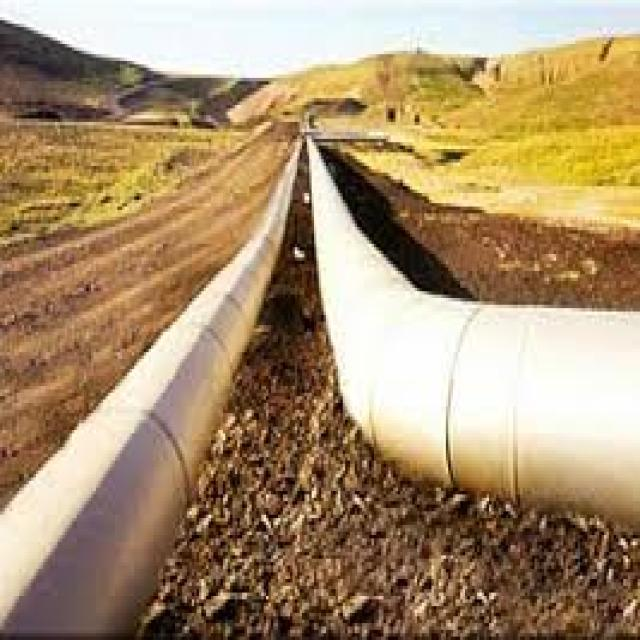gas: (0, 136, 304, 637), (305, 135, 639, 521)
